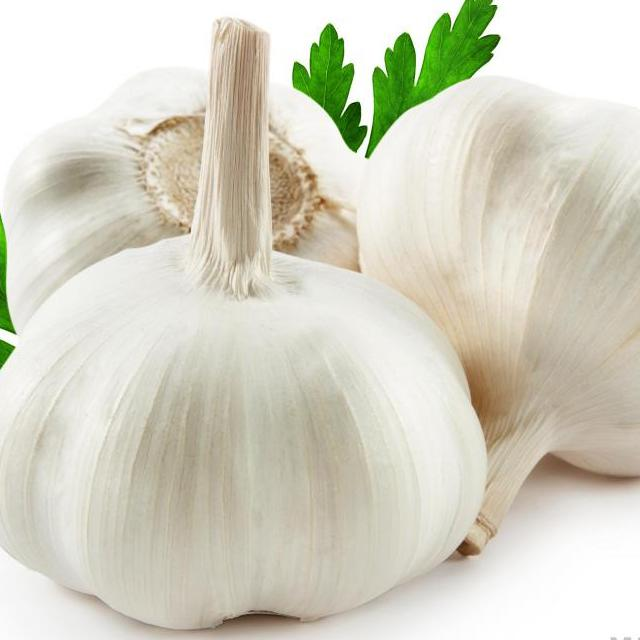garlic: (0, 219, 485, 627), (466, 69, 640, 539)
